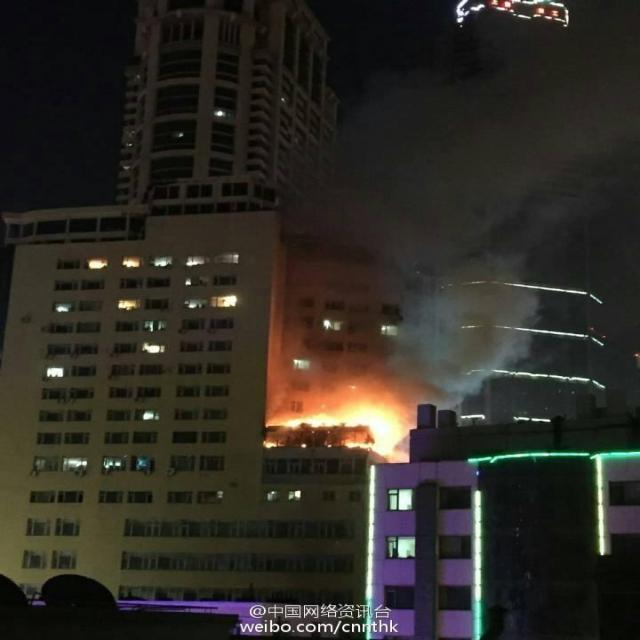fire: (266, 375, 406, 472)
other: (61, 241, 250, 501)
smoke: (346, 34, 580, 378)
